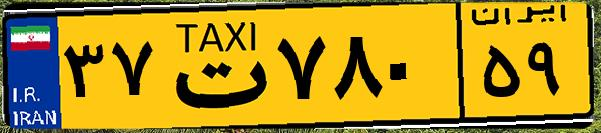0: (385, 28, 445, 110)
3: (57, 26, 110, 100)
5: (475, 38, 525, 113)
7: (270, 28, 330, 110), (110, 28, 158, 98)
8: (330, 28, 385, 110)
9: (525, 38, 570, 115)
ت: (158, 12, 270, 120)
